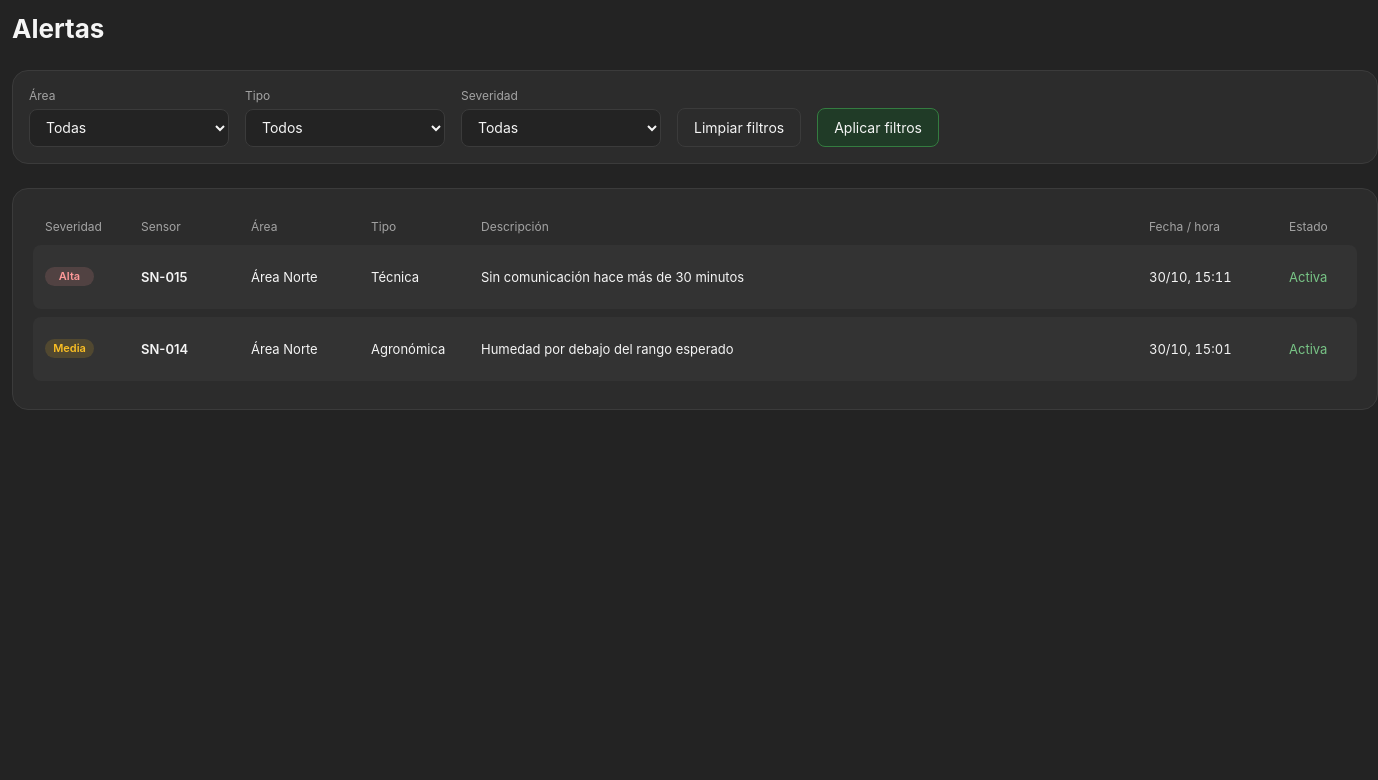
it: AlertasPage › si los filtros no encuentran nada lo dice y permite limpiarlos
Select "Alta" in the dropdown labelled "Severidad" at (561, 128), box [461,109,661,147]
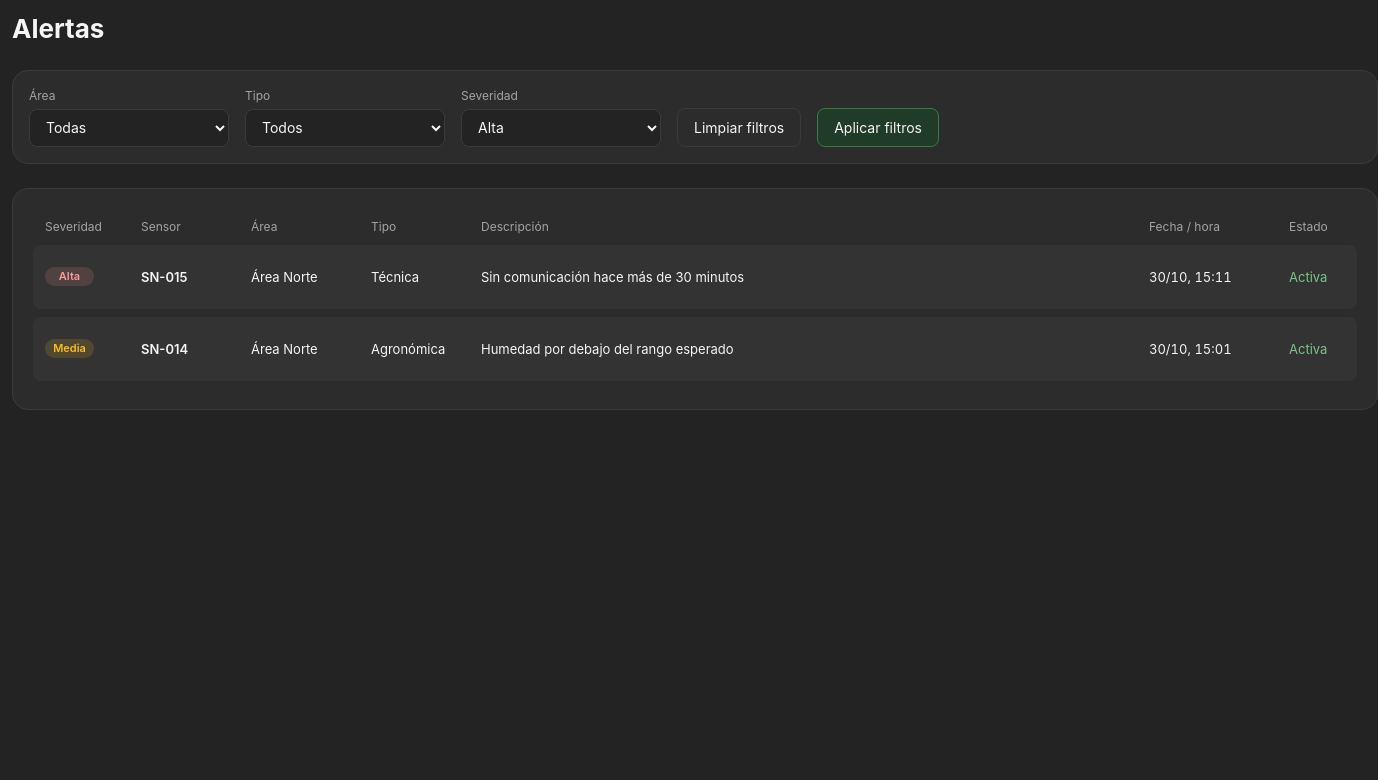
Click the button "Aplicar filtros" at (878, 127), box [817,108,939,147]
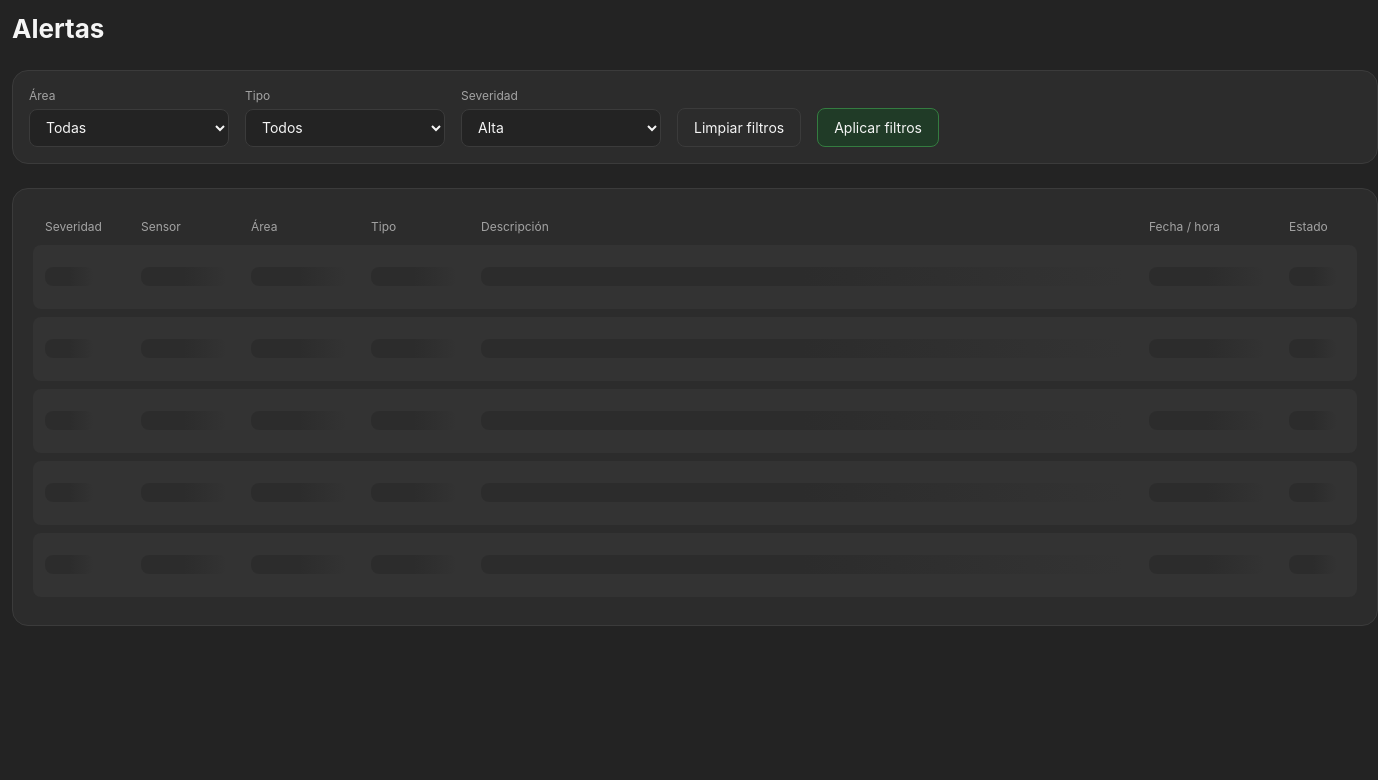
Select "Agronómica" in the dropdown labelled "Tipo" at (345, 128), box [245,109,445,147]
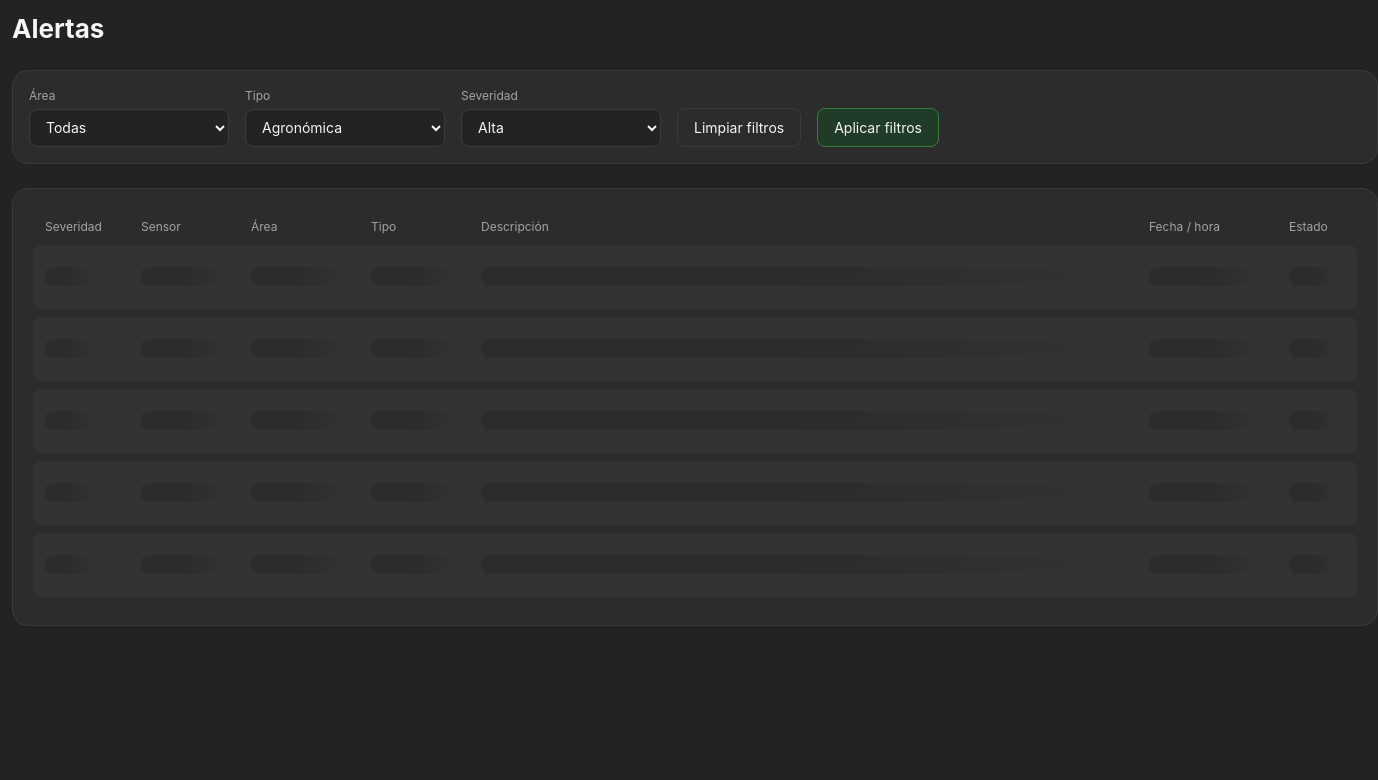
Click the button "Aplicar filtros" at (878, 127), box [817,108,939,147]
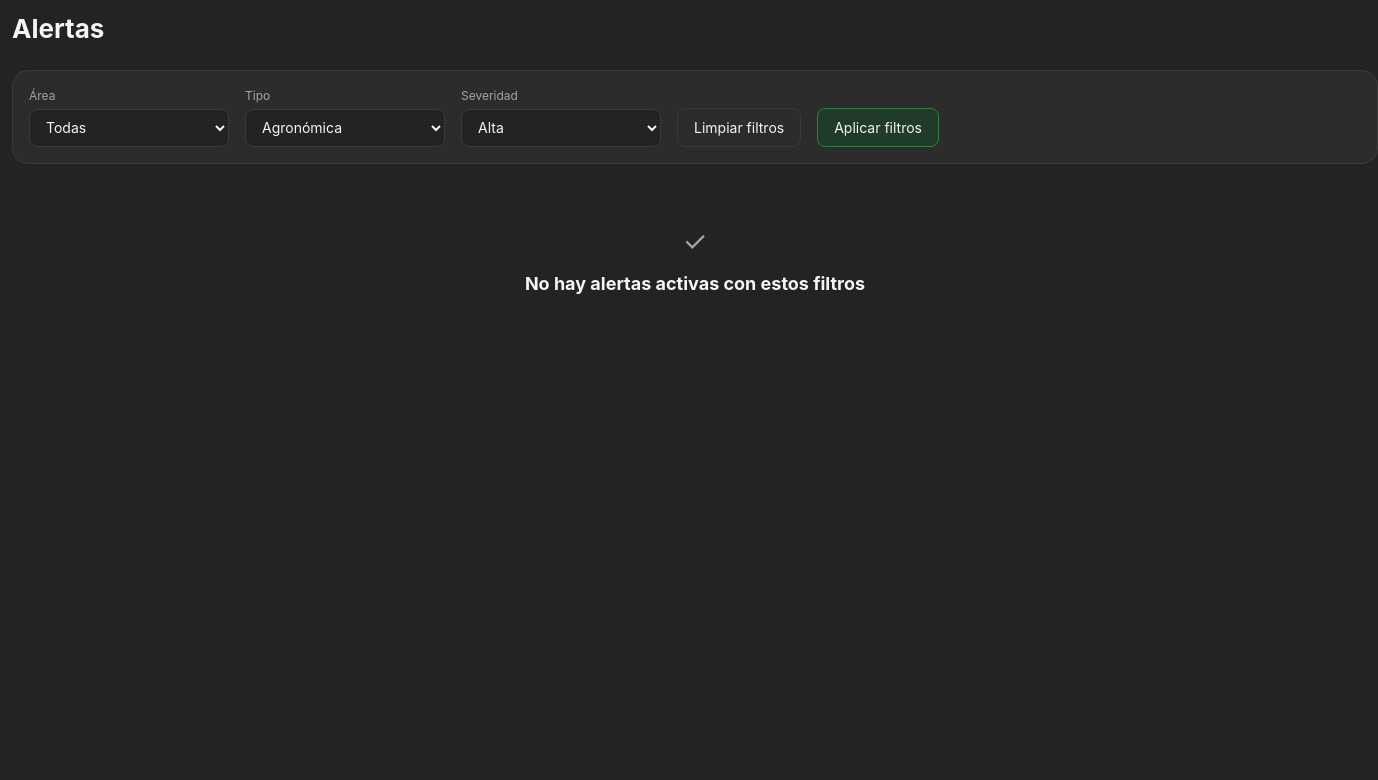
Check: the heading "No hay alertas activas con estos filtros" is shown, box [525,270,865,297]
Click the button "Limpiar filtros" at (739, 127), box [677,108,801,147]
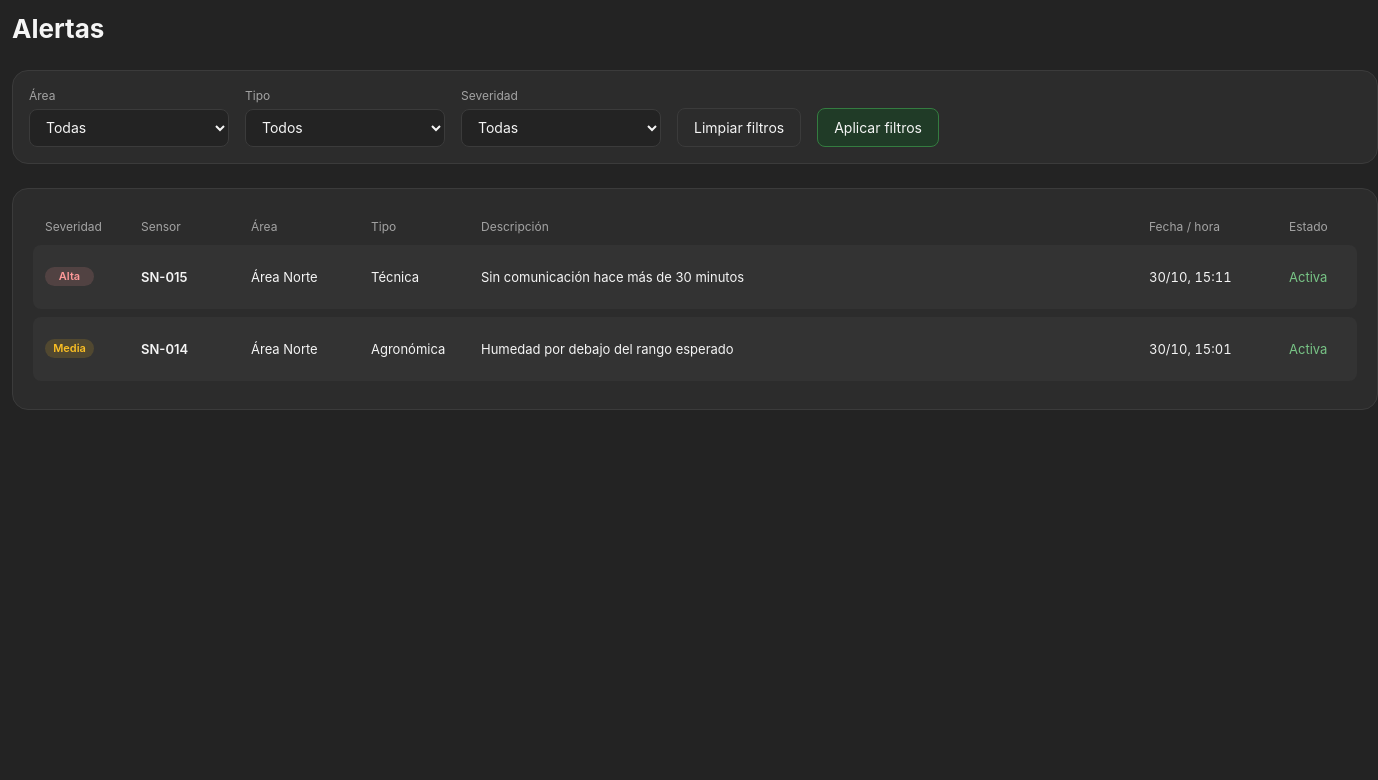
Check: the number of links is 2, box [141,269,187,285]; [141,341,188,357]
